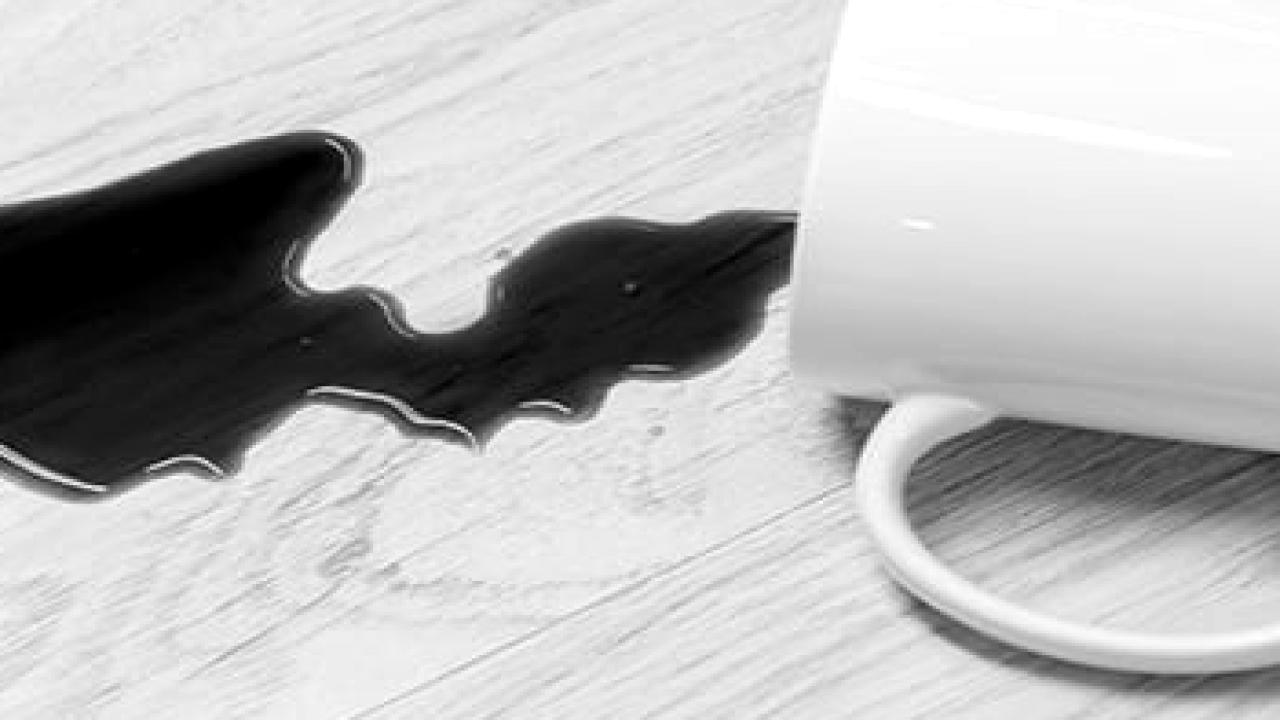drinks Stains: (0, 133, 834, 497)
